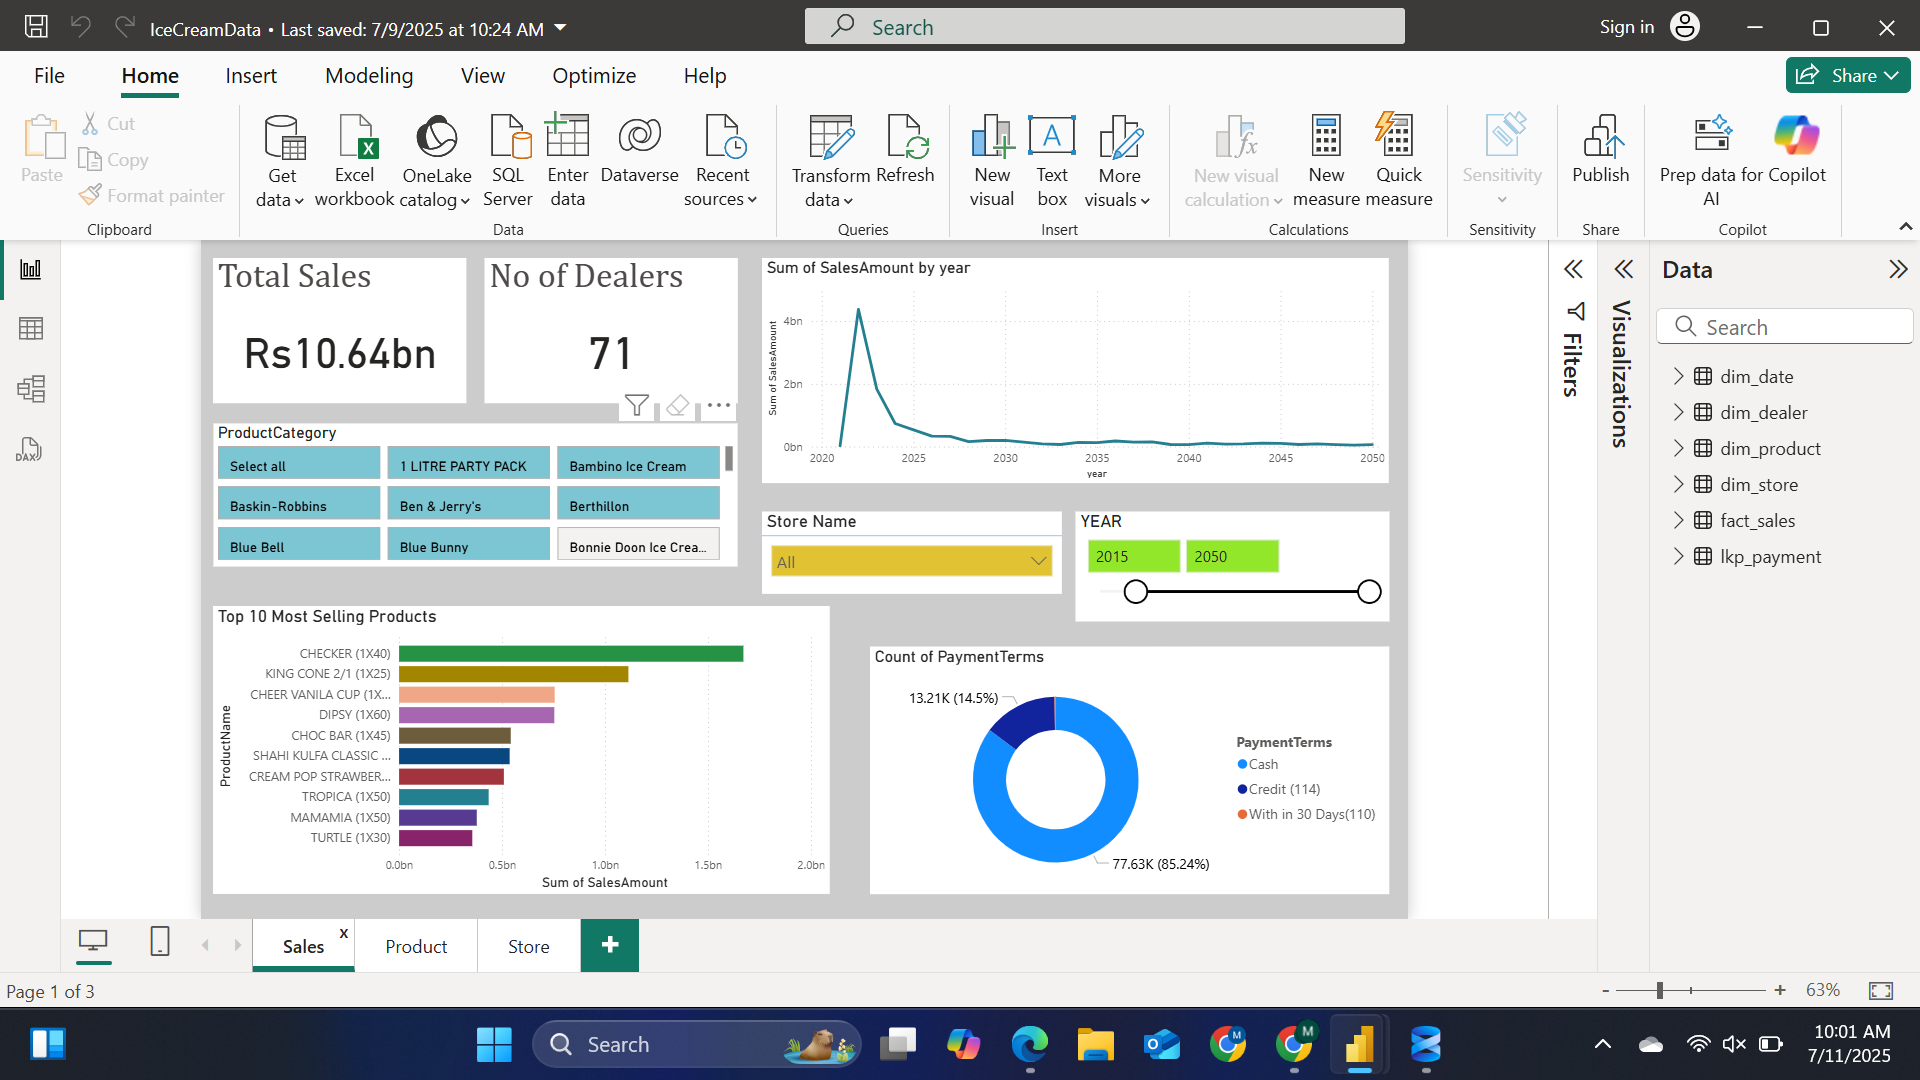

The dashboard page shown, as its layout file describes it:
{"tool":"powerbi","page":{"name":"Sales","canvas":[1280,720],"ordinal":0},"visuals":[{"type":"card","title":"Total Sales","fields":{"Values":["fact_sales.TotalSales"]},"box":[12.7,19.1,268.8,154.3],"z":0},{"type":"card","title":"No of  Dealers","fields":{"Values":["CountNonNull(dim_dealer.DealerID)"]},"box":[300.6,19.1,268.8,154.3],"z":1000},{"type":"lineChart","fields":{"Category":["dim_date.year"],"Y":["Sum(fact_sales.SalesAmount)"]},"box":[594.9,19.1,664.9,238.6],"z":2000},{"type":"donutChart","title":"Count of  PaymentTerms","fields":{"Category":["lkp_payment.PaymentTerms"],"Y":["CountNonNull(fact_sales.PaymentID)"]},"box":[709.4,431.1,550.4,262.5],"z":3000},{"type":"slicer","title":"YEAR","fields":{"Values":["dim_date.year"]},"box":[927.3,287.9,332.4,116.1],"z":4000},{"type":"advancedSlicerVisual","fields":{"Values":["dim_product.ProductCategory"]},"box":[12.7,194.1,556.7,152.7],"z":5000},{"type":"slicer","title":"Store Name","fields":{"Values":["dim_store.StoreName"]},"box":[594.9,287.9,318.1,87.5],"z":6000},{"type":"clusteredBarChart","title":"Top 10 Most Selling Products","fields":{"Y":["Sum(fact_sales.SalesAmount)"],"Category":["dim_product.ProductName"]},"box":[12.7,388.1,653.7,305.4],"z":7000}]}

Visuals, with their boxes on the page's 1280x720 design canvas (x1, y1, x2, y2). These are canvas units, not pixel positions in the 1920x1080 screenshot, which may show the page scaled, cropped or inside an application window:
"Total Sales" card: box(13, 19, 282, 173)
"No of  Dealers" card: box(301, 19, 569, 173)
lineChart - dim_date.year x Sum(fact_sales.SalesAmount): box(595, 19, 1260, 258)
"Count of  PaymentTerms" donutChart: box(709, 431, 1260, 694)
"YEAR" slicer: box(927, 288, 1260, 404)
advancedSlicerVisual - dim_product.ProductCategory: box(13, 194, 569, 347)
"Store Name" slicer: box(595, 288, 913, 375)
"Top 10 Most Selling Products" clusteredBarChart: box(13, 388, 666, 694)
